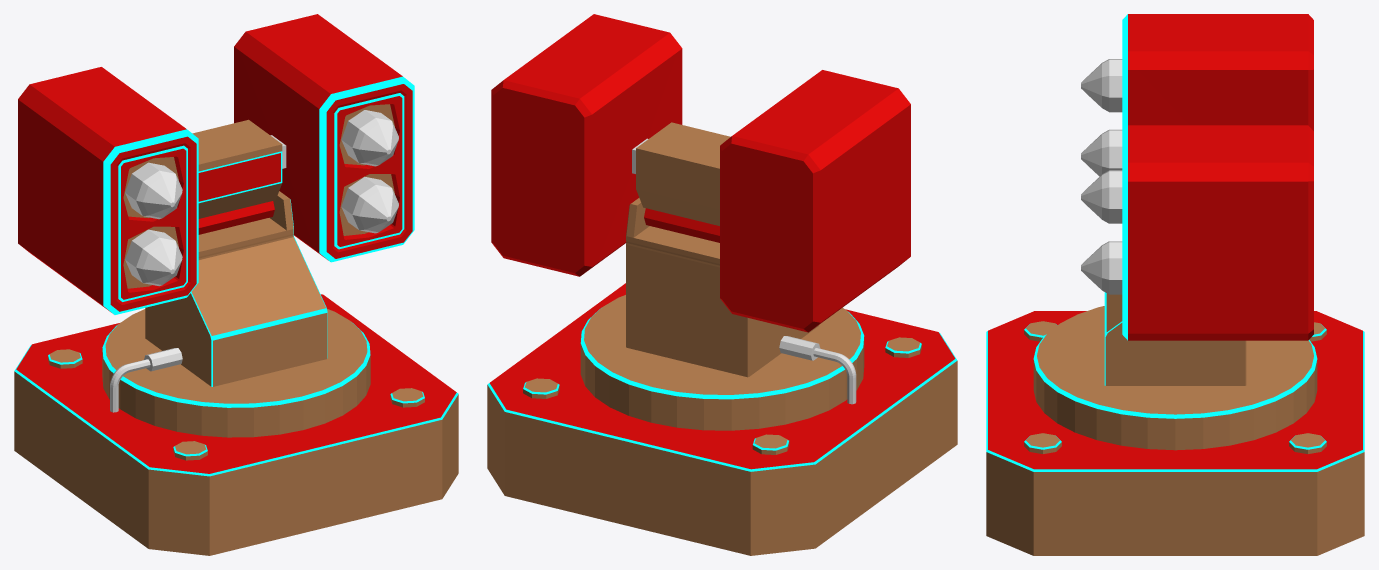
The model's file is turret.glb.
The picture shows the model from 3 angles, left to right: view 1: azimuth 30°, elevation 25°; view 2: azimuth 150°, elevation 25°; view 3: azimuth 270°, elevation 25°; orthographic projection. The views are drawn at different scales.
Visible parts, largest first — view 1: base_root; view 2: base_root; view 3: base_root.
Boxes of the visible parts, x1=… form: base_root: x1=14, y1=14, x2=458, y2=555; base_root: x1=487, y1=14, x2=957, y2=555; base_root: x1=986, y1=14, x2=1364, y2=555.
Size of what is drawn, in the model's own units: 2.01 by 2.26 by 2.
